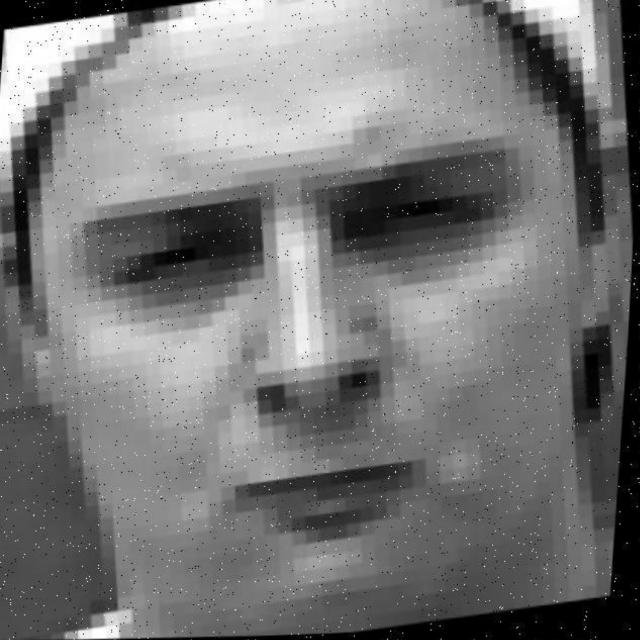Angry: (21, 45, 640, 576)
